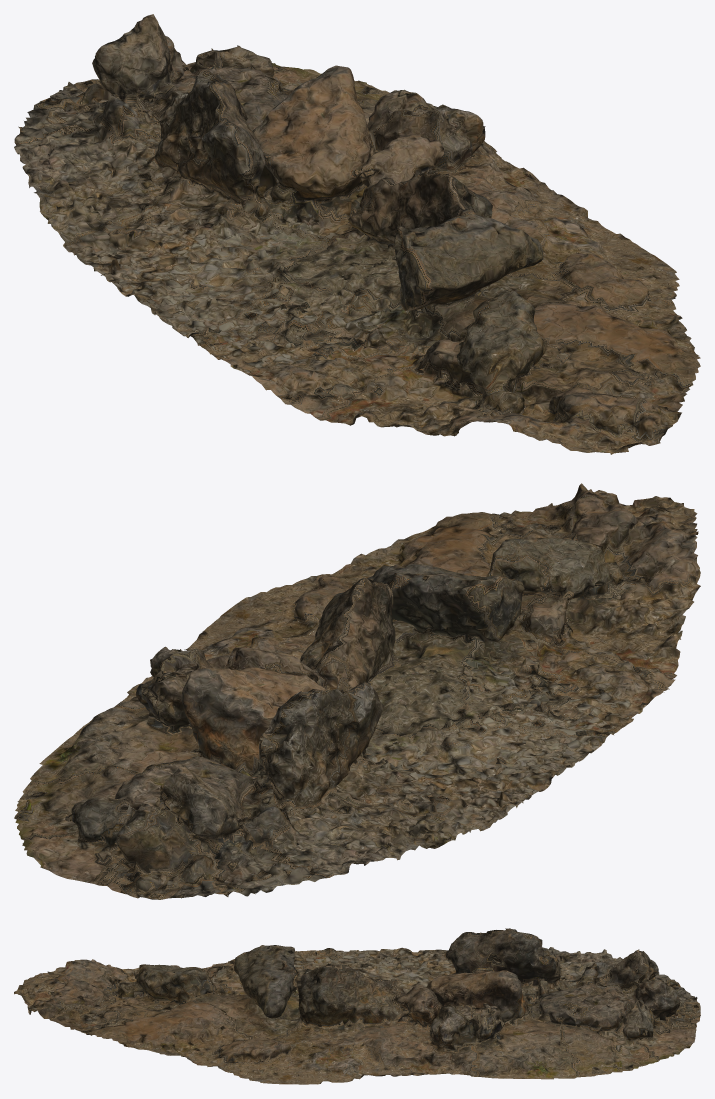
File: coast_land_rocks_02_1k_dec.gltf
The picture shows the model from 3 angles, top to bottom: view 1: azimuth 30°, elevation 25°; view 2: azimuth 150°, elevation 25°; view 3: azimuth 270°, elevation 25°; orthographic projection. The views are drawn at different scales.
Visible parts, largest first — view 1: coast_land_rocks_02; view 2: coast_land_rocks_02; view 3: coast_land_rocks_02.
Part boxes in pixels (x1,y1,x2,y2): coast_land_rocks_02: [14, 14, 700, 454]; coast_land_rocks_02: [14, 483, 700, 899]; coast_land_rocks_02: [14, 928, 700, 1084].
Size of the model in its own units: 4.87 by 1.36 by 10.43.
Materials: 1 (1 with a texture image).
